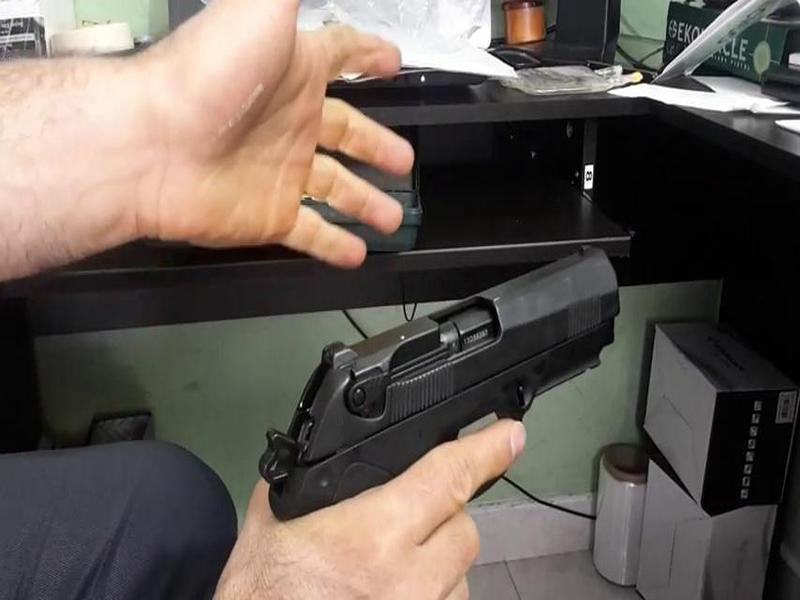Pistola: (246, 234, 643, 514)
